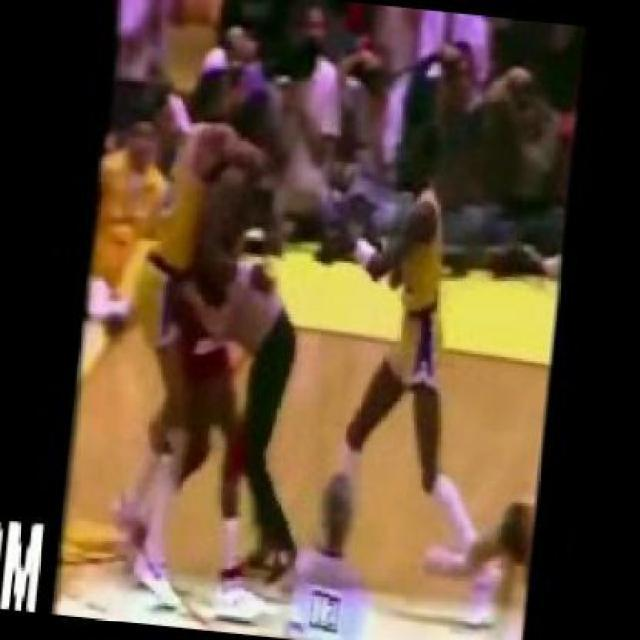fight: (95, 86, 343, 588)
